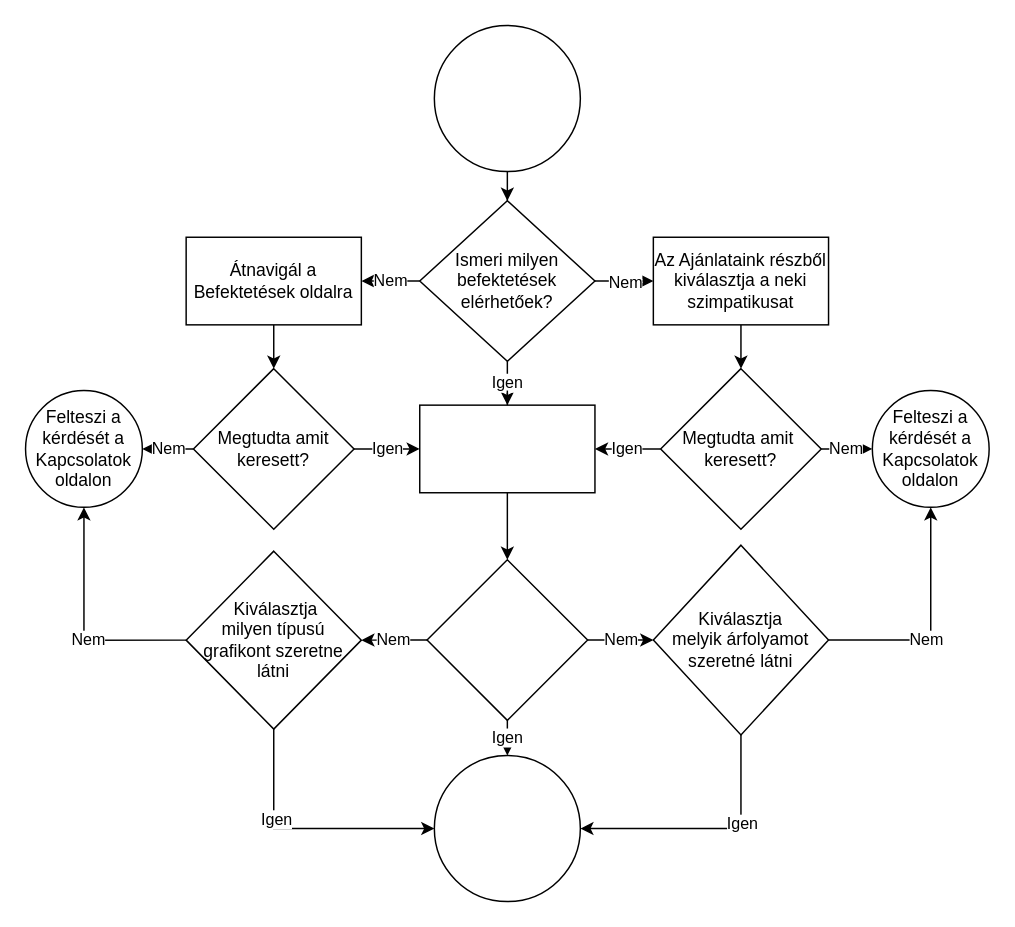
This 1015x927 diagram has some shape labels left out. The centre of each missing label's shape, as x and y in pixels:
Felhasználó belép a Kezdőlapra: (x=506, y=98)
Létrehozza a kívánt Grafikont: (x=506, y=828)
Tudja milyen grafikon érdekli?: (x=507, y=639)
Átnavigál a Grafikonrajzoló oldalra: (x=506, y=448)
